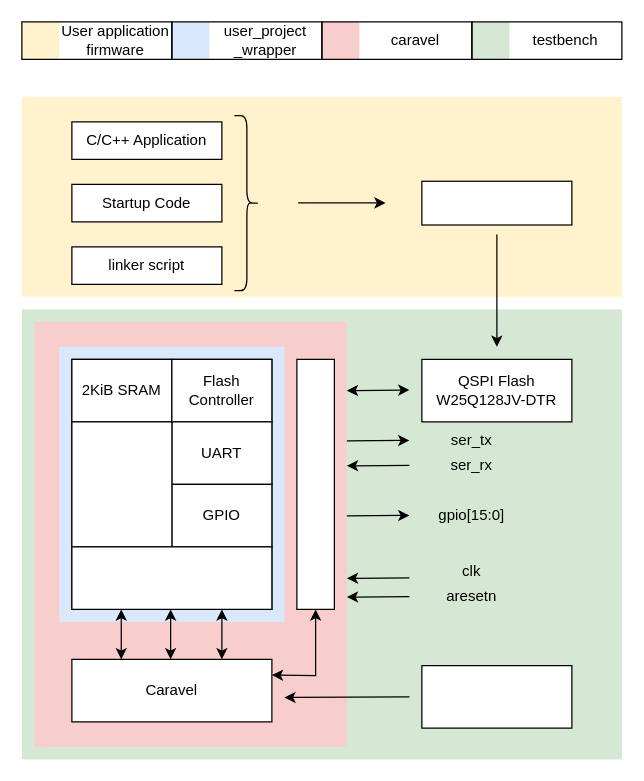
Image size: 644x781. Some labels were removed from this diagram. The box of each missing label's shape, as (x1, y1, x2, y2) in pixels:
Caravel Hex file: (421, 664, 572, 728)
hex: (421, 180, 572, 225)
PADFRAME: (296, 358, 334, 609)
PicoRV32 RISCV-IM: (71, 546, 272, 609)
SIMD Approximate Multiplier: (71, 421, 172, 547)
